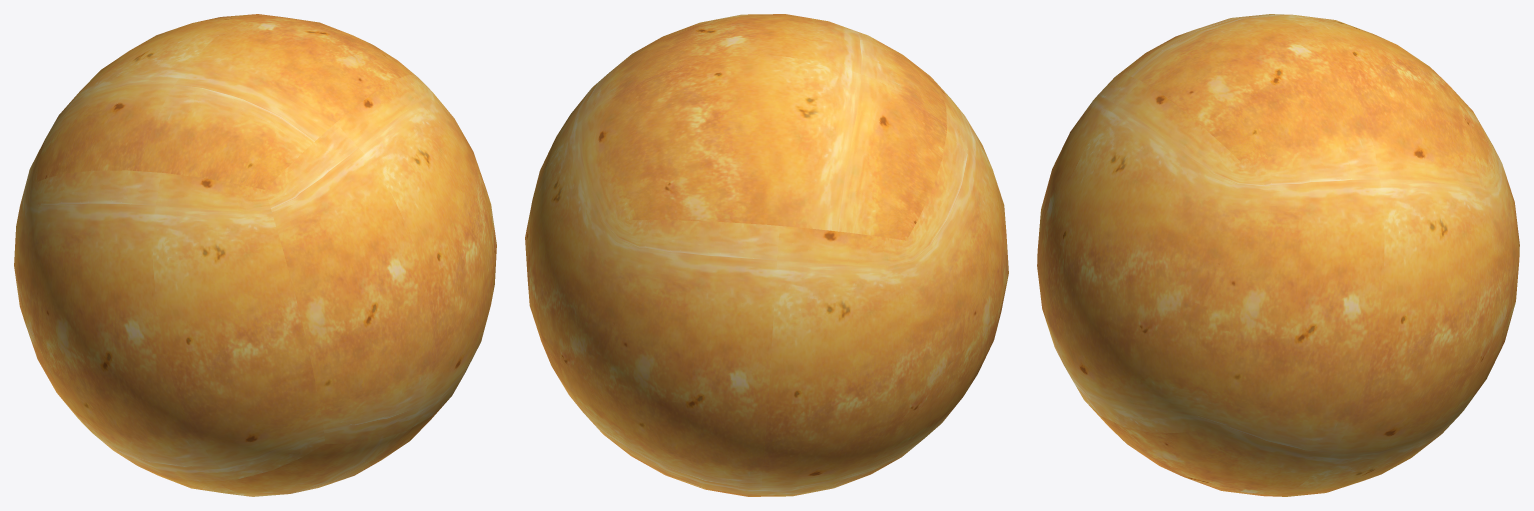
File: sun.obj
3 views of the same model, side by side, from view 1: azimuth 30°, elevation 25°; view 2: azimuth 150°, elevation 25°; view 3: azimuth 270°, elevation 25° (orthographic).
Visible parts, largest first — view 1: Venus; view 2: Venus; view 3: Venus.
Part boxes in pixels (<box>): Venus: <box>14,14,496,496</box>; Venus: <box>525,14,1008,496</box>; Venus: <box>1037,14,1519,496</box>.
Size of the model in its own units: 61112 by 61115 by 61020.
1 material, 1 textured.
